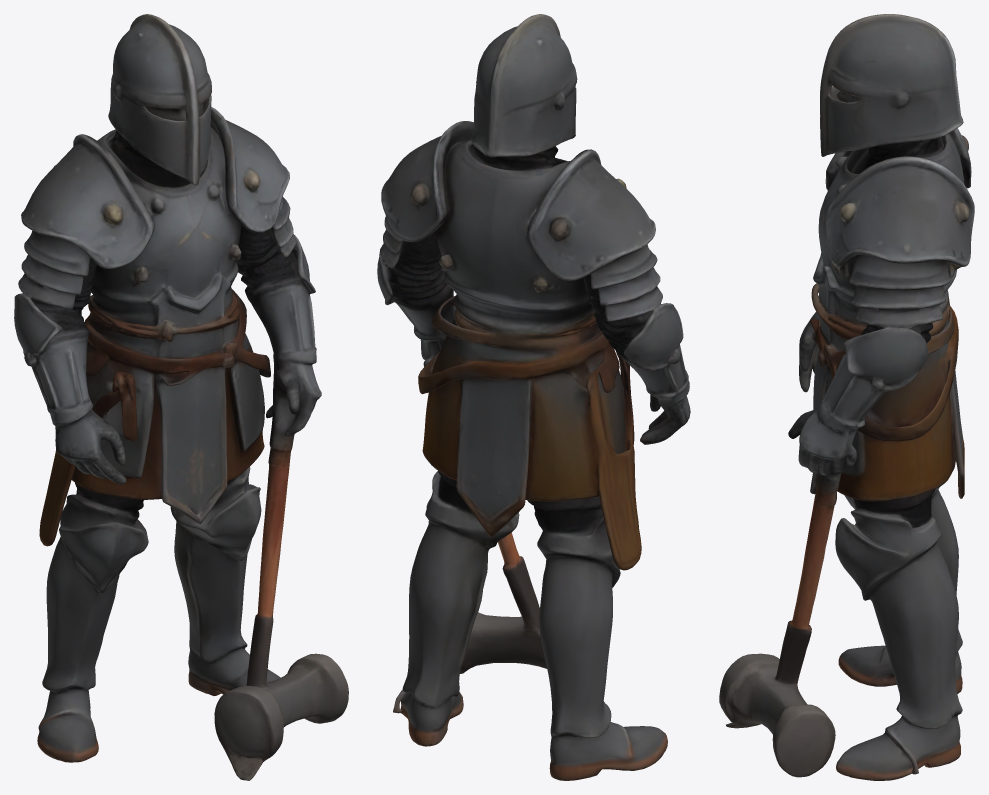
Rendered from knight.glb.
The picture shows the model from 3 angles, left to right: view 1: azimuth 30°, elevation 25°; view 2: azimuth 150°, elevation 25°; view 3: azimuth 270°, elevation 25°; orthographic projection. The views are drawn at different scales.
Visible parts, largest first — view 1: world; view 2: world; view 3: world.
Boxes of the visible parts, box(x1,y1,x2,y2) form: world: box(14, 14, 348, 780); world: box(377, 14, 690, 780); world: box(719, 14, 974, 780).
Size of the model in its own units: 0.4218 by 1 by 0.3268.
1 material, 1 textured.
